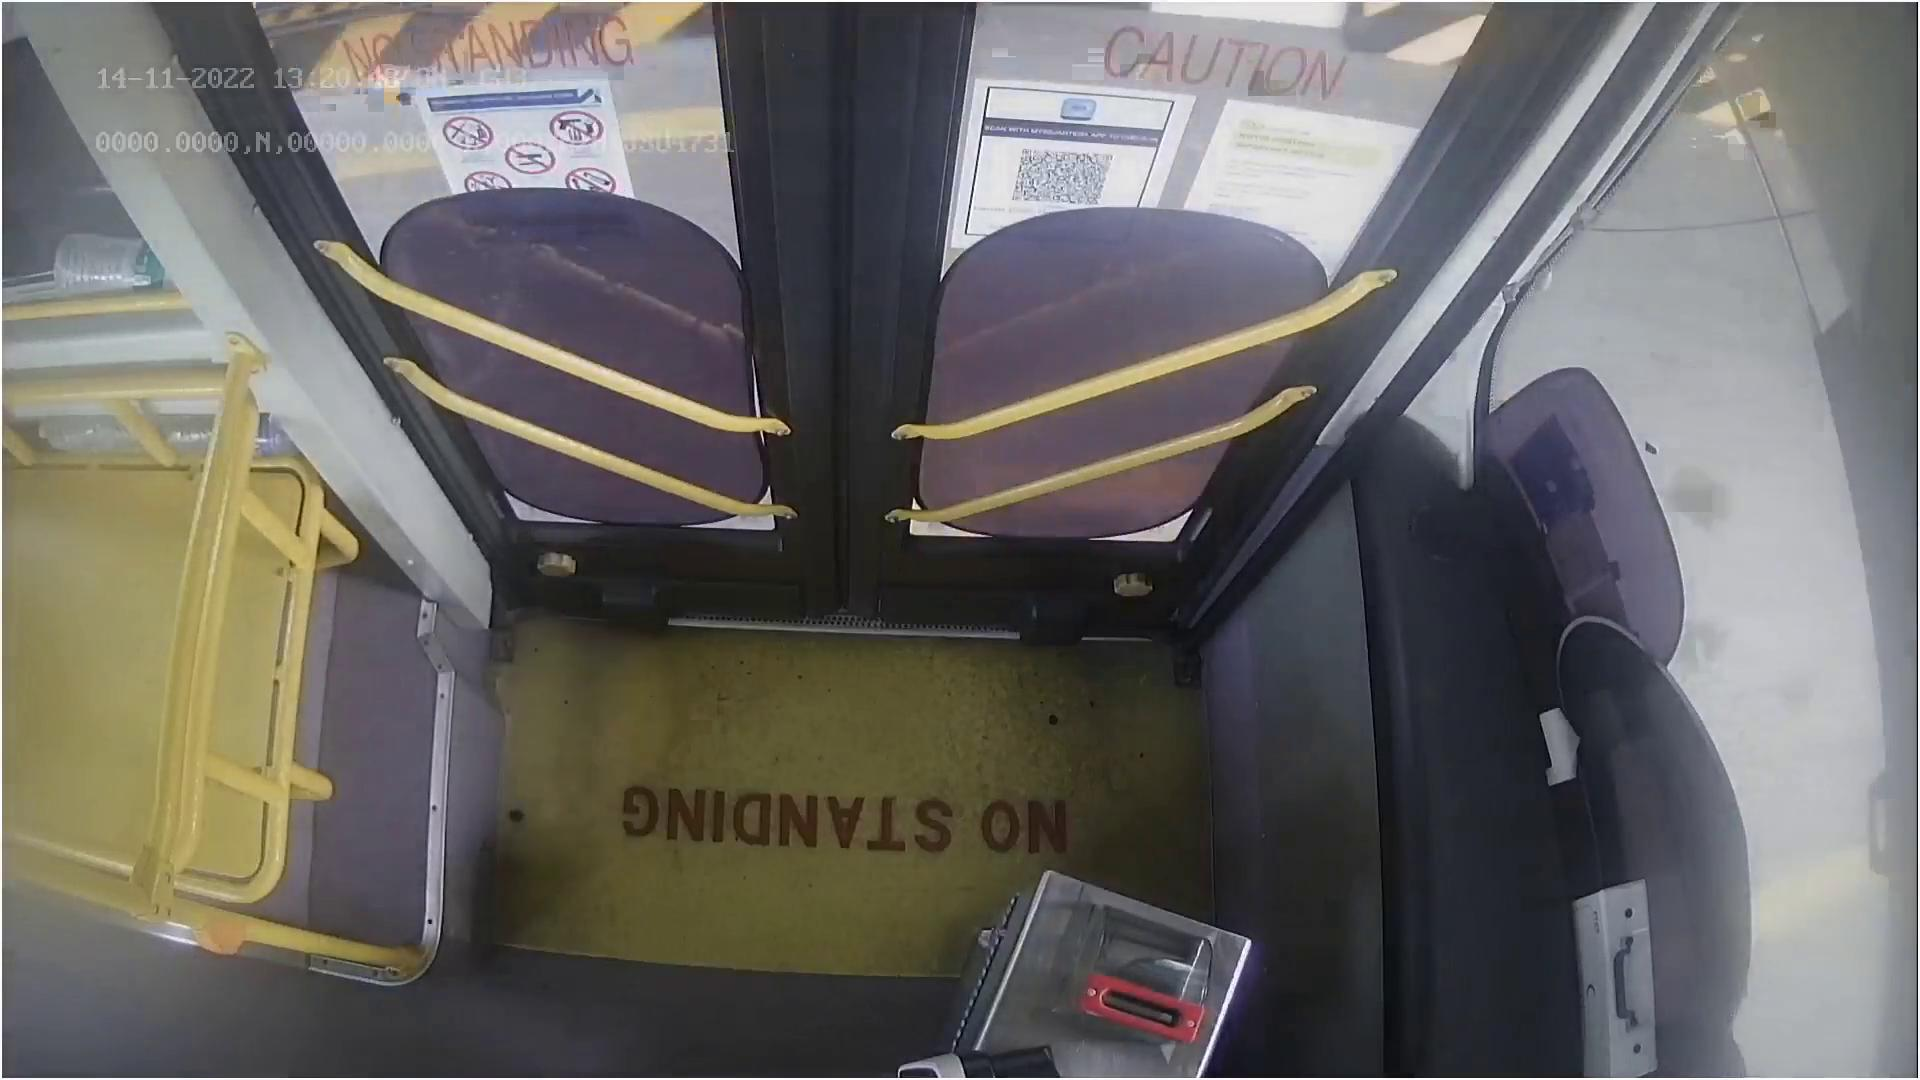close: (290, 0, 1452, 145)
